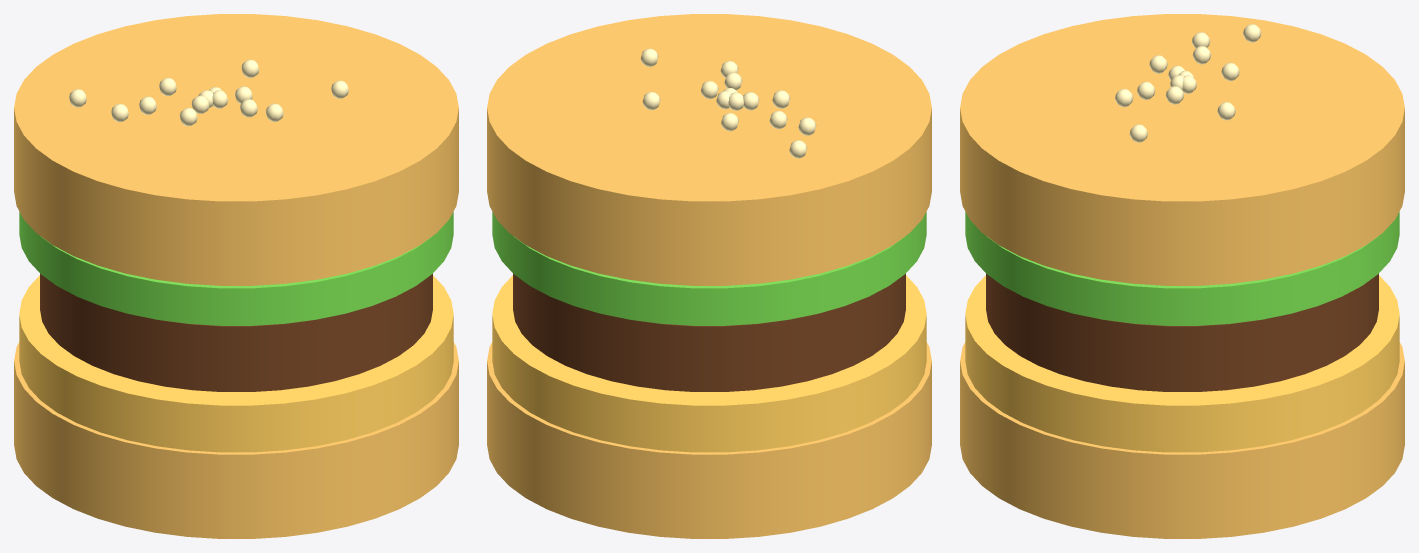
File: burger.glb
3 views of the same model, side by side, from view 1: azimuth 30°, elevation 25°; view 2: azimuth 150°, elevation 25°; view 3: azimuth 270°, elevation 25° (orthographic).
Bounding box in the file's own units: 0.8576 × 0.768 × 0.86.
